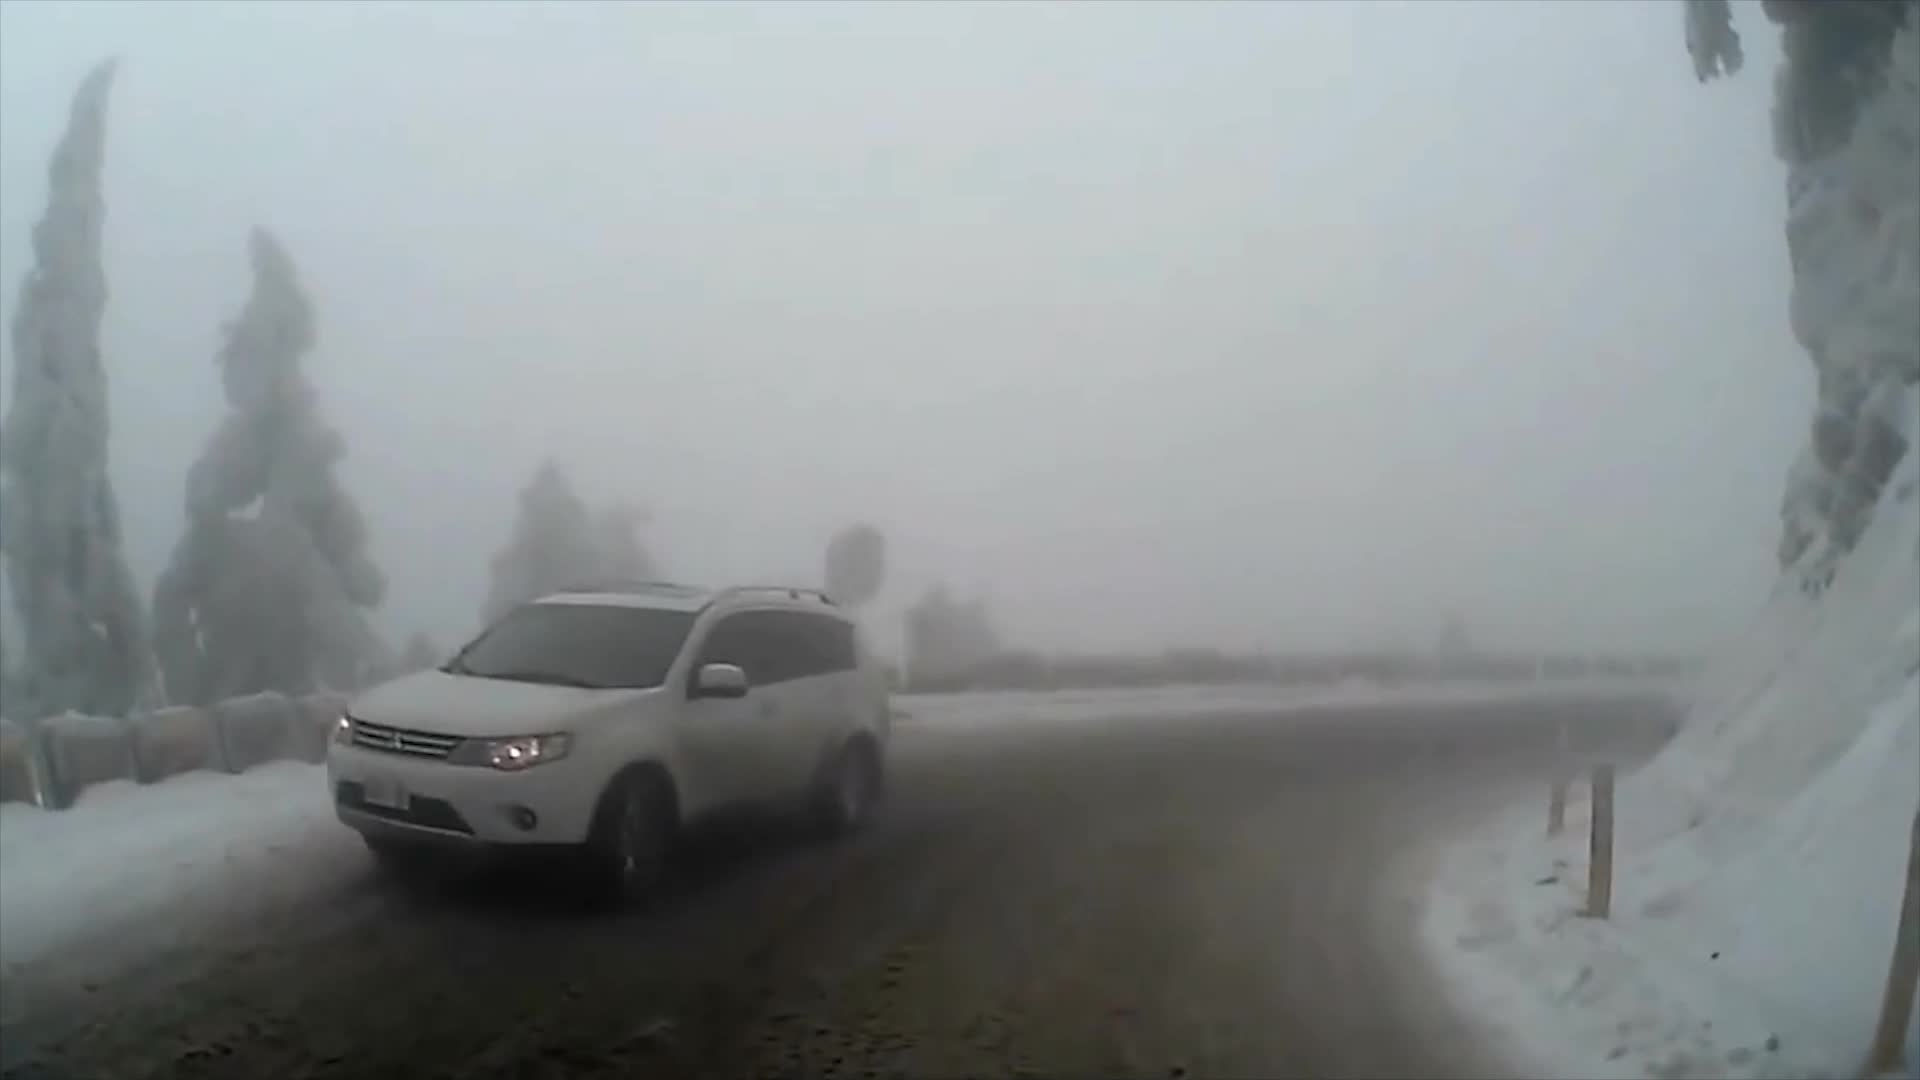vehicle: (322, 578, 893, 903)
